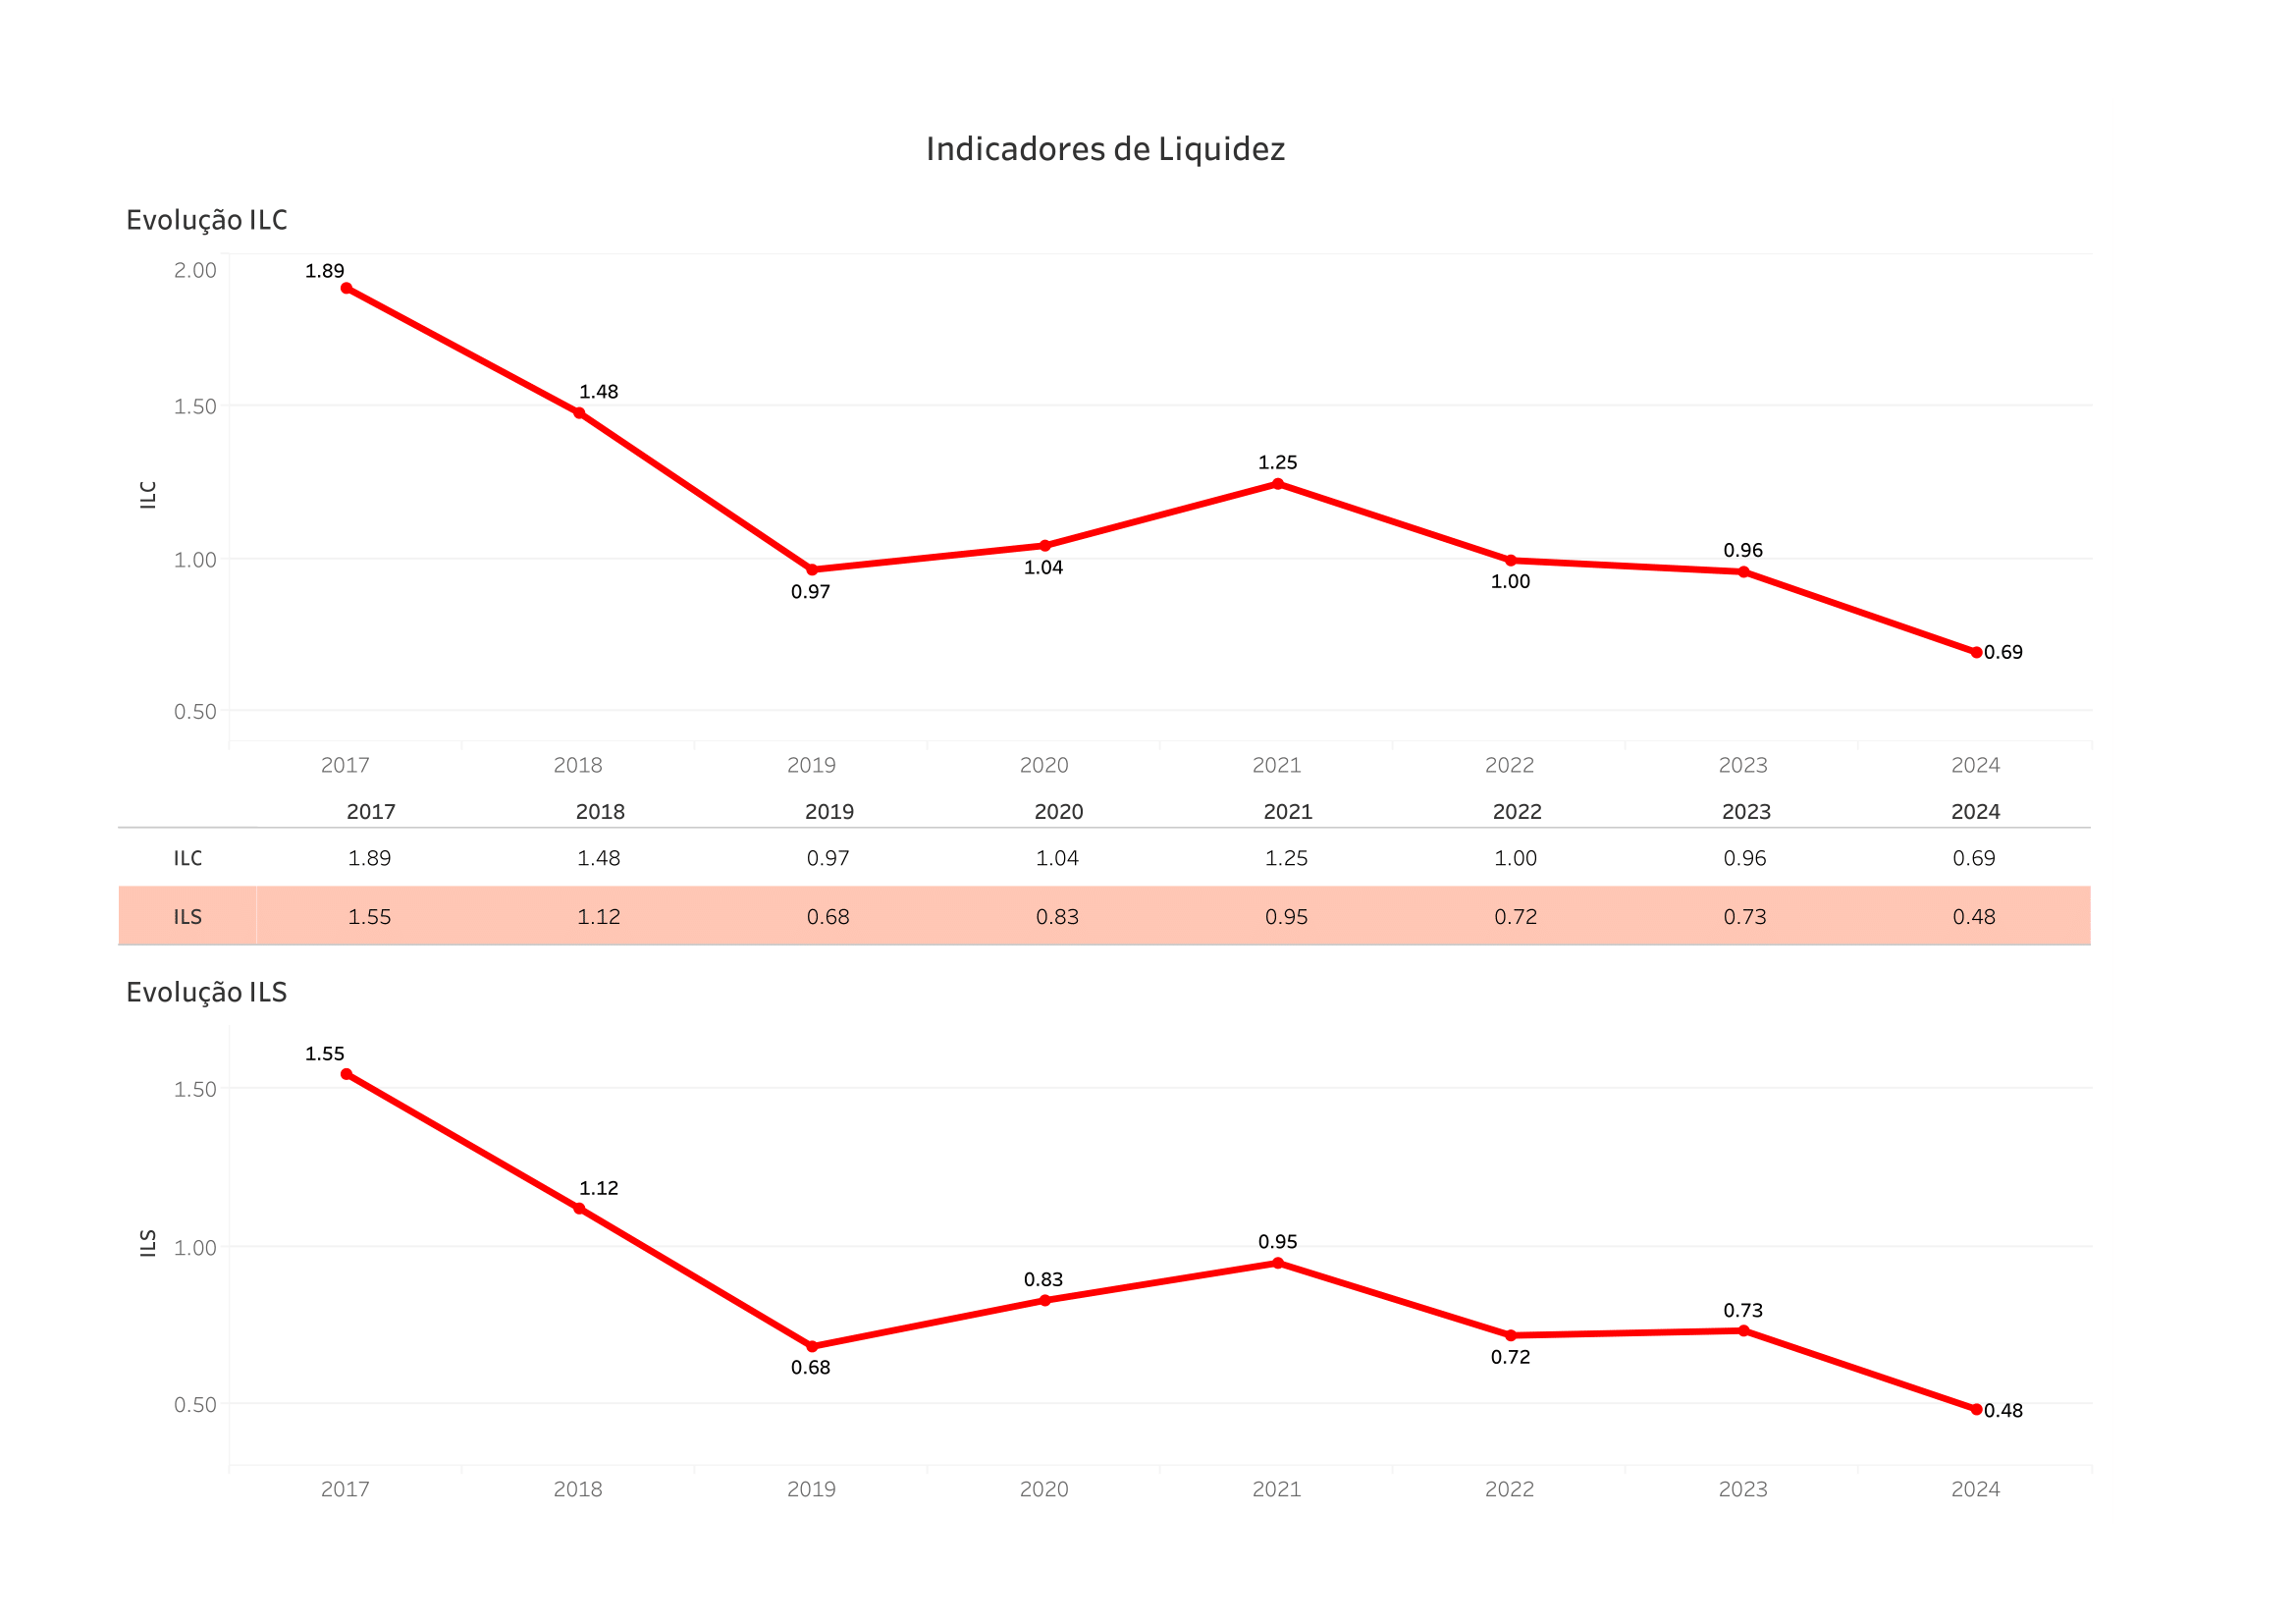

This screenshot's page, from the dashboard's own definition file:
{"tool":"tableau","page":{"name":"Liquidez","canvas":[1169,827],"ordinal":3},"visuals":[{"type":"title","box":[8,8,1153,40]},{"type":"worksheet","title":"Evolução ILC","mark":"Line","rows":["ILC"],"cols":["Ano"],"box":[8,48,1153,351]},{"type":"worksheet","title":"Tabela Ind. Liquidez","mark":"Automatic","cols":["Ano"],"box":[8,399,1153,97]},{"type":"worksheet","title":"Evolução ILS","mark":"Line","rows":["ILS"],"cols":["Ano"],"box":[8,496,1153,323]}]}

Visuals, with their boxes in screenshot pixels (x1, y1, x2, y2), scaled from the page's 1169x827 canvas onto the 2296x1623 screenshot:
title: 16:16:2280:94
"Evolução ILC" worksheet (Line marks): 16:94:2280:784
"Tabela Ind. Liquidez" worksheet: 16:784:2280:973
"Evolução ILS" worksheet (Line marks): 16:973:2280:1607
